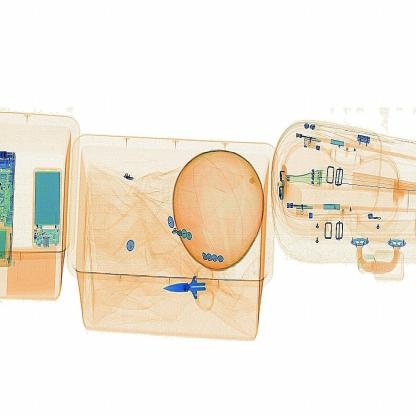gun: (156, 257, 218, 318)
